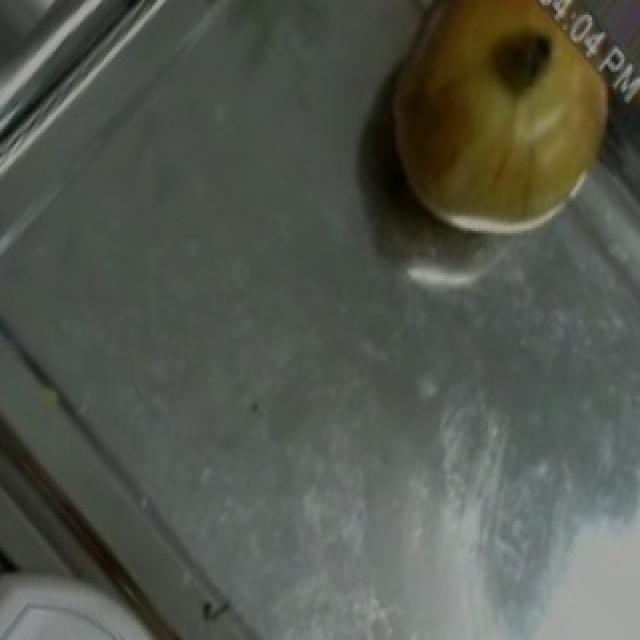fruit: (360, 0, 638, 256)
